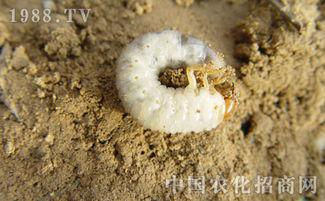grub: (116, 29, 238, 131)
